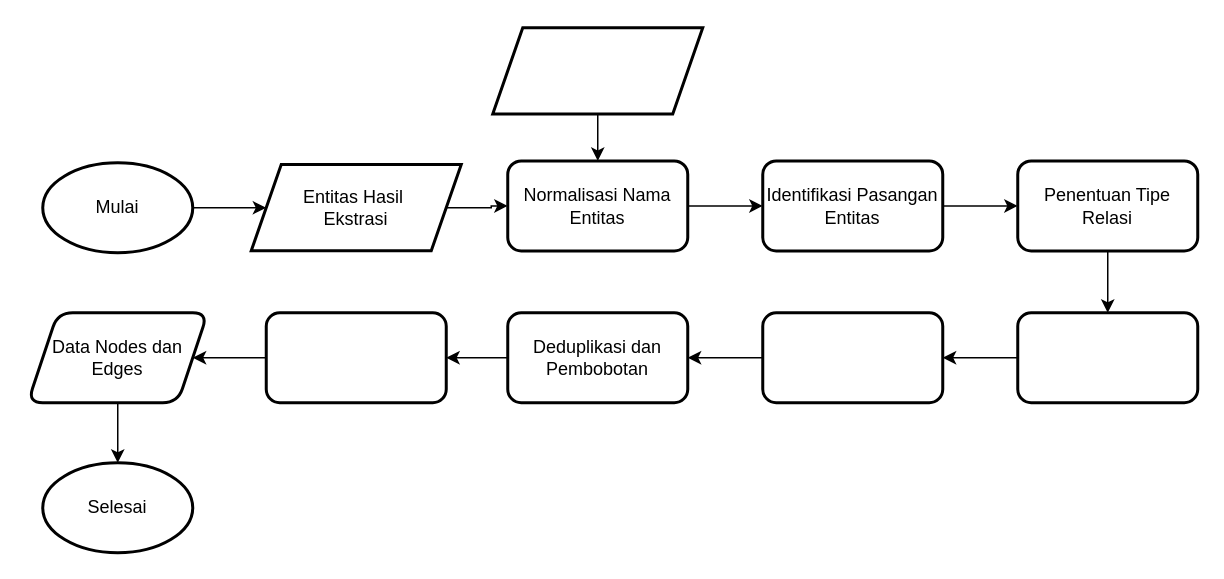
Some shapes in this 1224 by 579 pixel diagram are drawn without their labels. The shapes that lost their labels are listed below. From the top down, each one's centre as x and y in pixels, then its label:
At pixel 597 70: "Data Alias Entitas".
At pixel 355 357: "Ekspor Node dan Edge".
At pixel 852 357: "Simpan Jejak Sumber Entitas".
At pixel 1107 357: "Filter Konteks Tidak Relevan".
